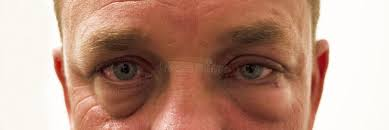PUFFY_EYES: (224, 62, 298, 121), (88, 61, 153, 118)
